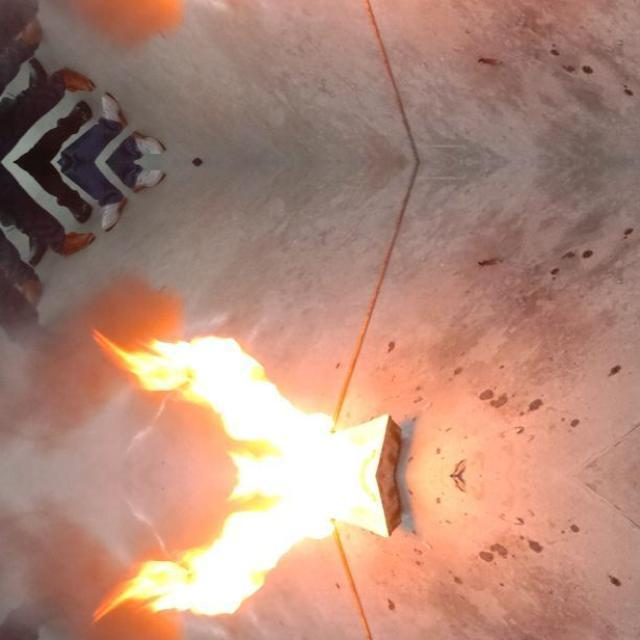smoke: (90, 324, 376, 627)
